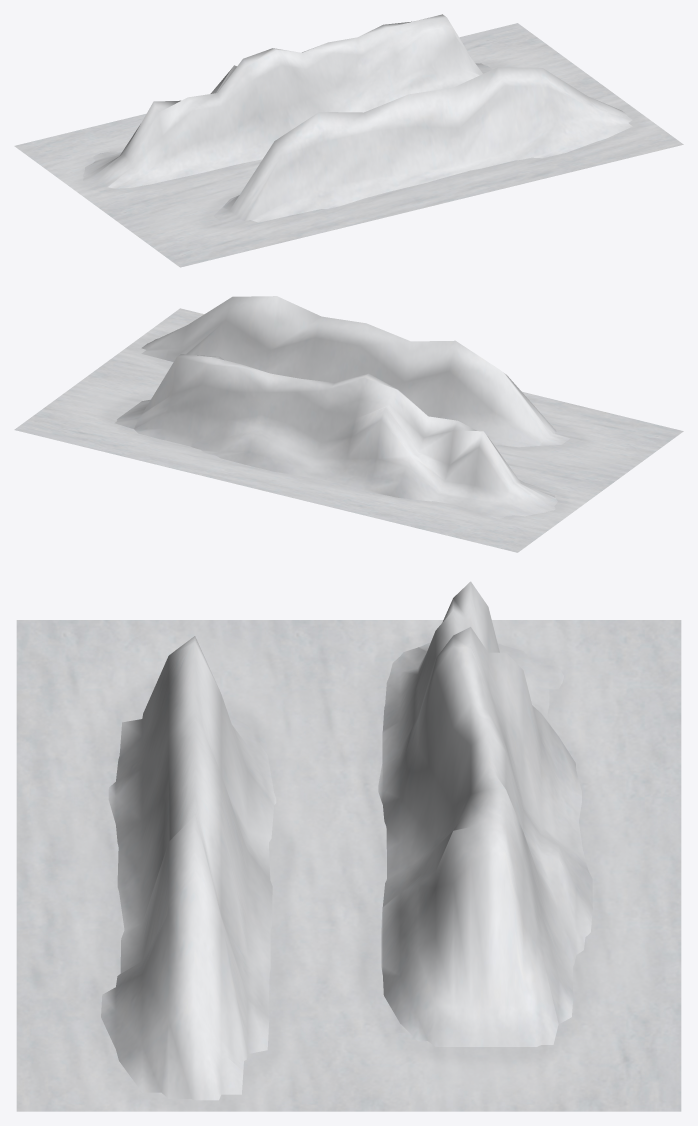
File: mountain01.FBX
3 views of the same model, one above another, from view 1: azimuth 30°, elevation 25°; view 2: azimuth 150°, elevation 25°; view 3: azimuth 270°, elevation 25° (orthographic). The views are drawn at different scales.
Visible parts, largest first — view 1: LU3; view 2: LU3; view 3: LU3.
Part boxes in pixels (x1,y1,x2,y2): LU3: [14, 14, 683, 267]; LU3: [14, 296, 683, 552]; LU3: [16, 581, 681, 1111].
Size of the model in its own units: 700 by 116 by 400.
Materials: 1 (1 with a texture image).
